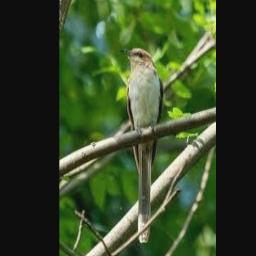Cuckoo: (119, 48, 164, 240)
